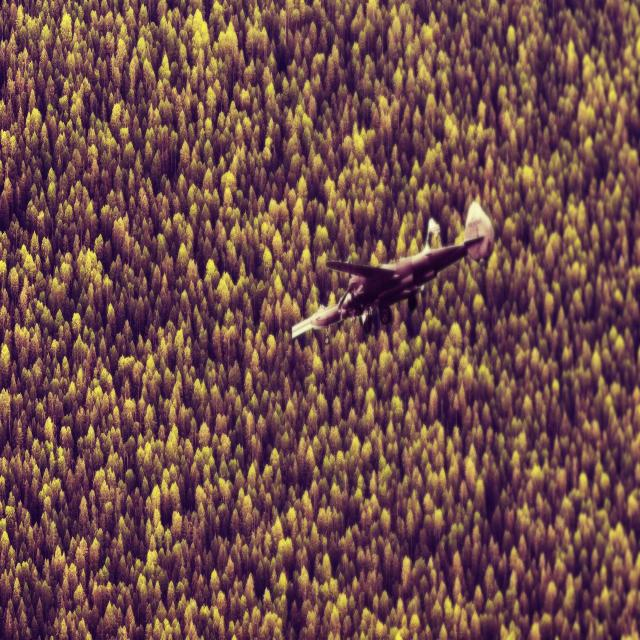airplane: (290, 200, 494, 341)
